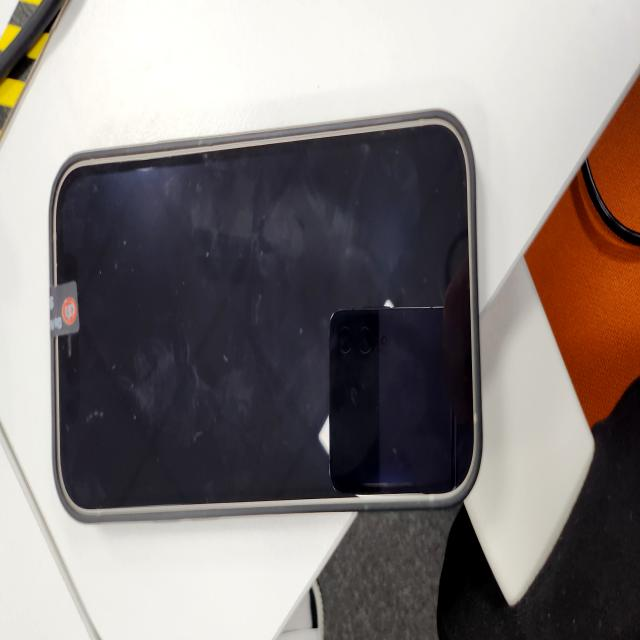phone: (48, 109, 484, 525)
sticker: (45, 280, 83, 339)
